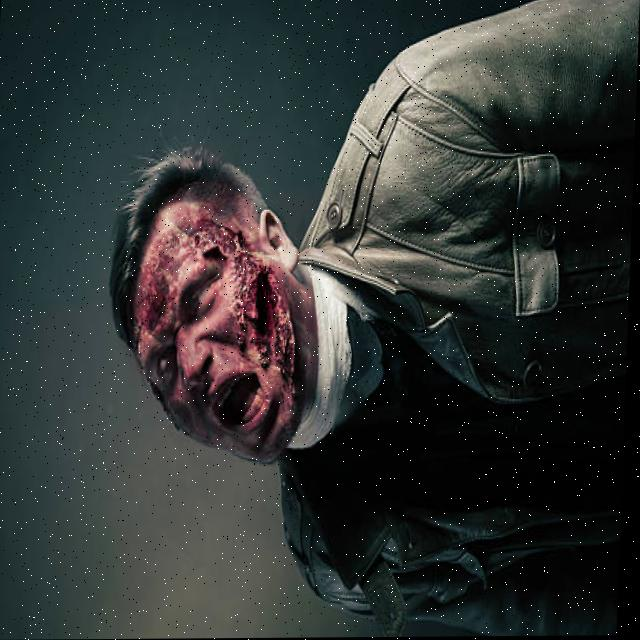Zombie: (101, 164, 308, 494)
